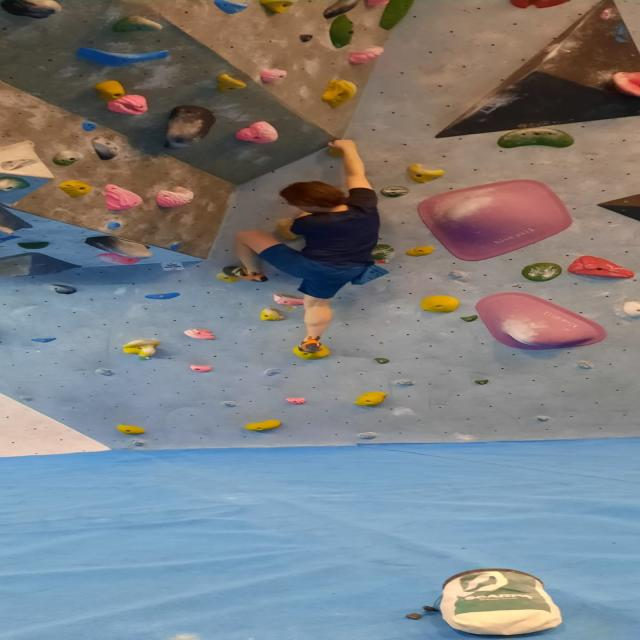Crimp: (66, 44, 183, 67), (138, 286, 186, 306), (180, 325, 223, 346), (40, 279, 91, 296), (206, 0, 255, 14), (17, 236, 58, 252), (25, 334, 64, 348), (80, 119, 100, 133)
Jug: (321, 76, 359, 112), (103, 185, 146, 215), (234, 118, 280, 146), (107, 14, 168, 35), (154, 185, 198, 212), (119, 337, 164, 362), (405, 160, 448, 184), (206, 74, 250, 95), (56, 176, 94, 199), (266, 291, 309, 306), (258, 306, 287, 324)
Pinch: (83, 130, 129, 163), (239, 416, 284, 436), (91, 78, 129, 98)
Pocket: (107, 93, 152, 118)
Sloper: (412, 172, 582, 264), (471, 290, 608, 352), (153, 100, 222, 153), (76, 228, 160, 261), (565, 254, 637, 285), (498, 129, 580, 152), (0, 0, 72, 25), (370, 0, 423, 32), (328, 12, 357, 52), (520, 262, 566, 287), (418, 291, 463, 316), (46, 147, 85, 168), (351, 388, 389, 407)
